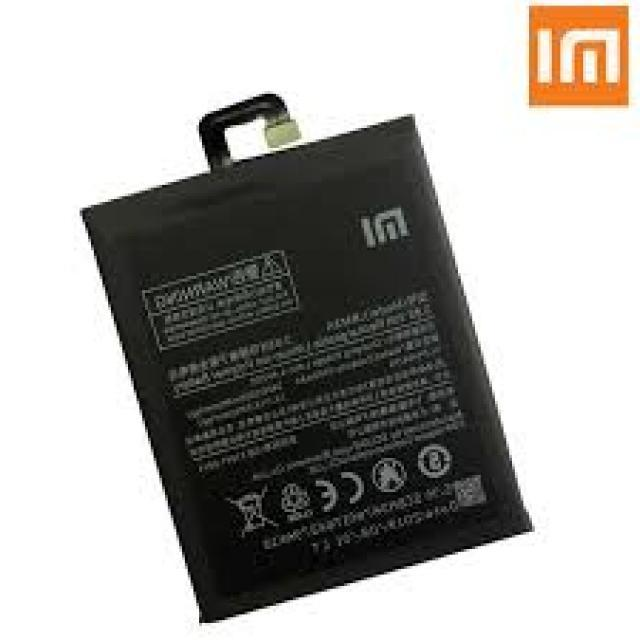battery: (81, 93, 538, 622)
